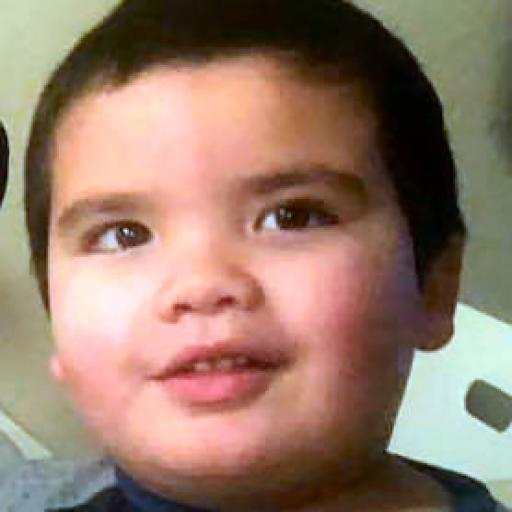Autism: (6, 12, 474, 468)
